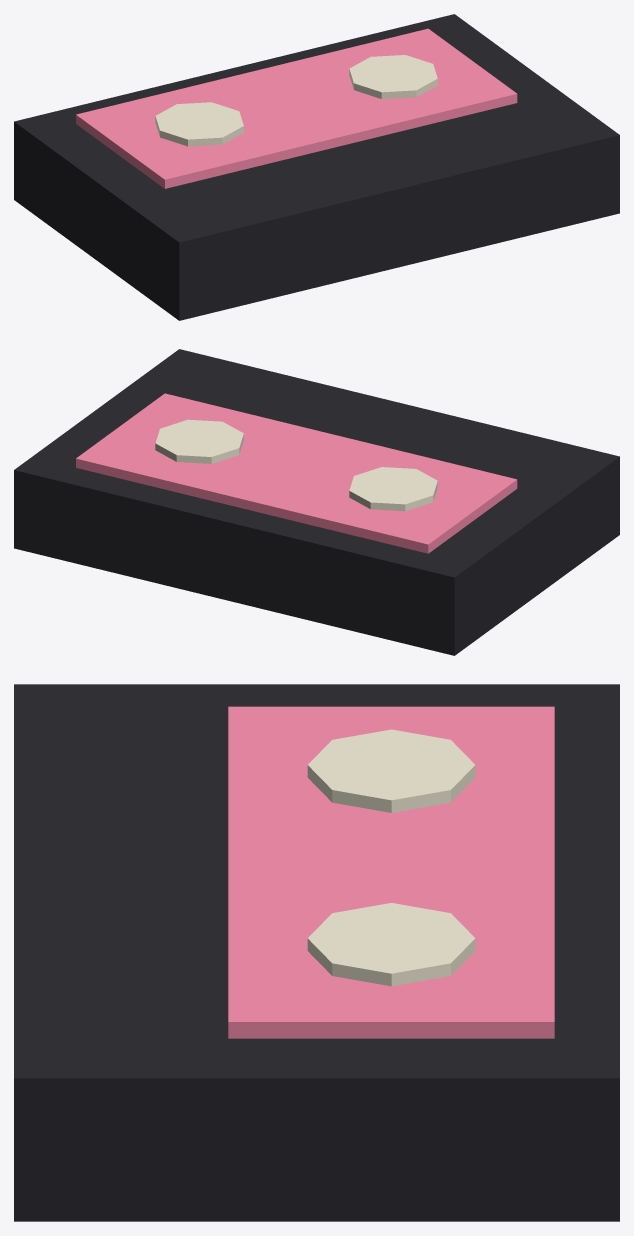
File: radio_tape.glb
The picture shows the model from 3 angles, top to bottom: view 1: azimuth 30°, elevation 25°; view 2: azimuth 150°, elevation 25°; view 3: azimuth 270°, elevation 25°; orthographic projection. The views are drawn at different scales.
Parts seen in each view (by area): view 1: tape_tape_shell, label_tape_label, reels_tape_reel (×2); view 2: tape_tape_shell, label_tape_label, reels_tape_reel (×2); view 3: tape_tape_shell, label_tape_label, reels_tape_reel (×2).
Boxes of the visible parts, x1,y1,x2,y2 form: tape_tape_shell: (14, 14, 619, 320); label_tape_label: (76, 28, 517, 188); reels_tape_reel (×2): (155, 55, 437, 146); tape_tape_shell: (14, 349, 619, 655); label_tape_label: (76, 393, 517, 553); reels_tape_reel (×2): (155, 419, 437, 511); tape_tape_shell: (14, 684, 619, 1221); label_tape_label: (228, 706, 554, 1038); reels_tape_reel (×2): (307, 729, 475, 986).
Size of the model in its own units: 0.1 by 0.0205 by 0.065.
